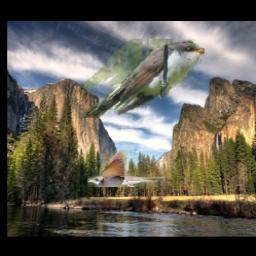Cuckoo: (79, 39, 205, 118), (87, 150, 166, 187)
